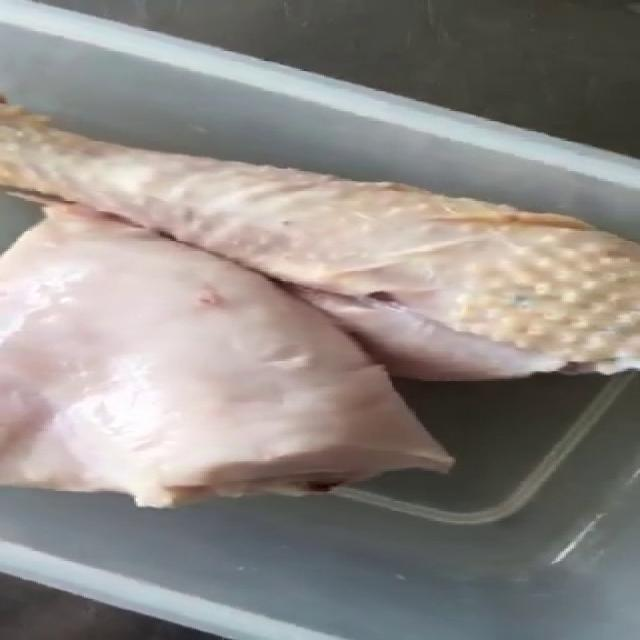chicken: (0, 95, 639, 382), (0, 198, 456, 510)
